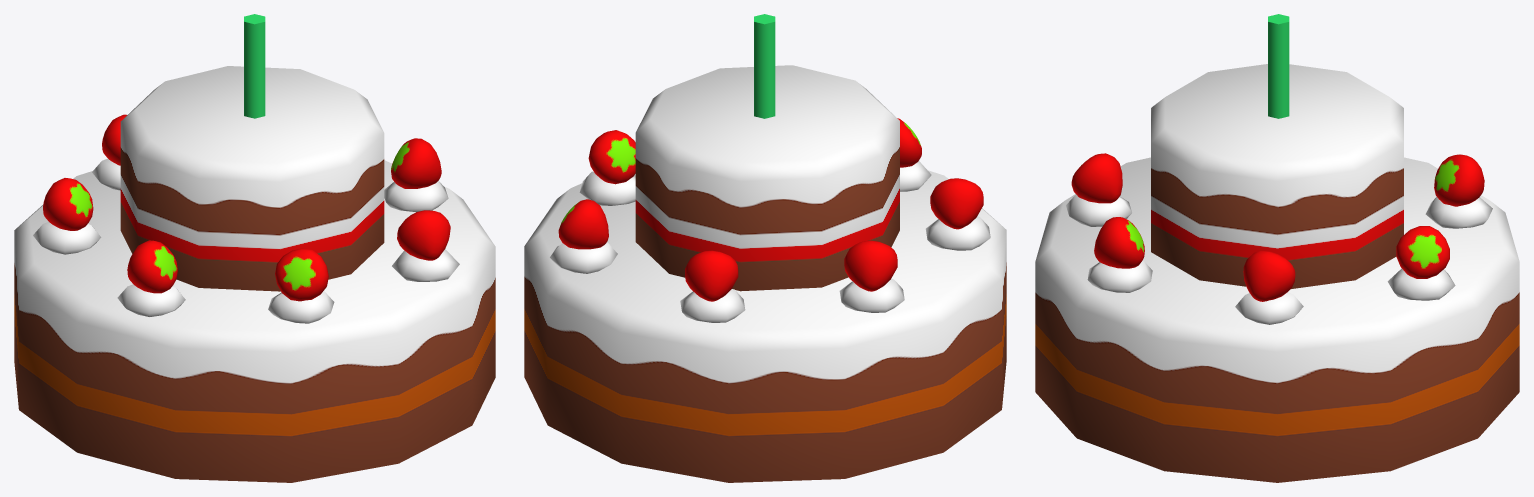
File: bCake_year1.fbx
3 renders of one model, left to right at view 1: azimuth 30°, elevation 25°; view 2: azimuth 150°, elevation 25°; view 3: azimuth 270°, elevation 25°, orthographic.
Visible parts, largest first — view 1: birthdayCake; view 2: birthdayCake; view 3: birthdayCake.
Part boxes in pixels (left/top/right/bottom): birthdayCake: left=14, top=14, right=495, bottom=482; birthdayCake: left=524, top=14, right=1006, bottom=482; birthdayCake: left=1035, top=14, right=1519, bottom=482.
Size of the model in its own units: 145 by 121 by 146.
Materials: 1 (1 with a texture image).
